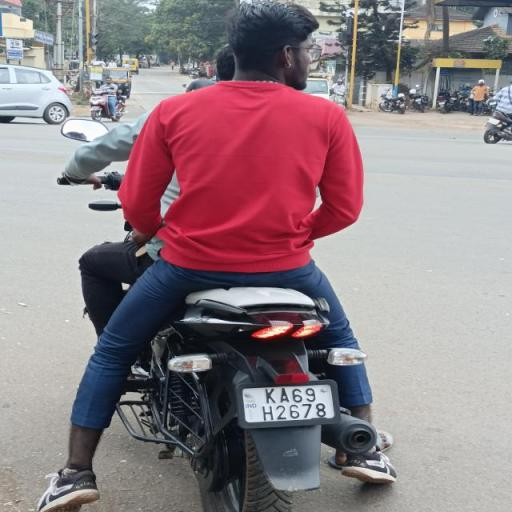bike: (25, 1, 430, 512)
numberplate: (242, 379, 340, 425)
withouthelmet: (234, 3, 314, 82)
